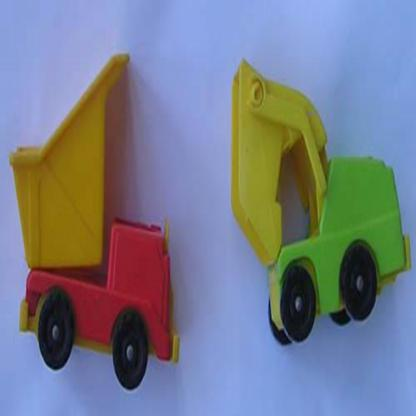Truck: (9, 53, 180, 392), (232, 60, 413, 346)
